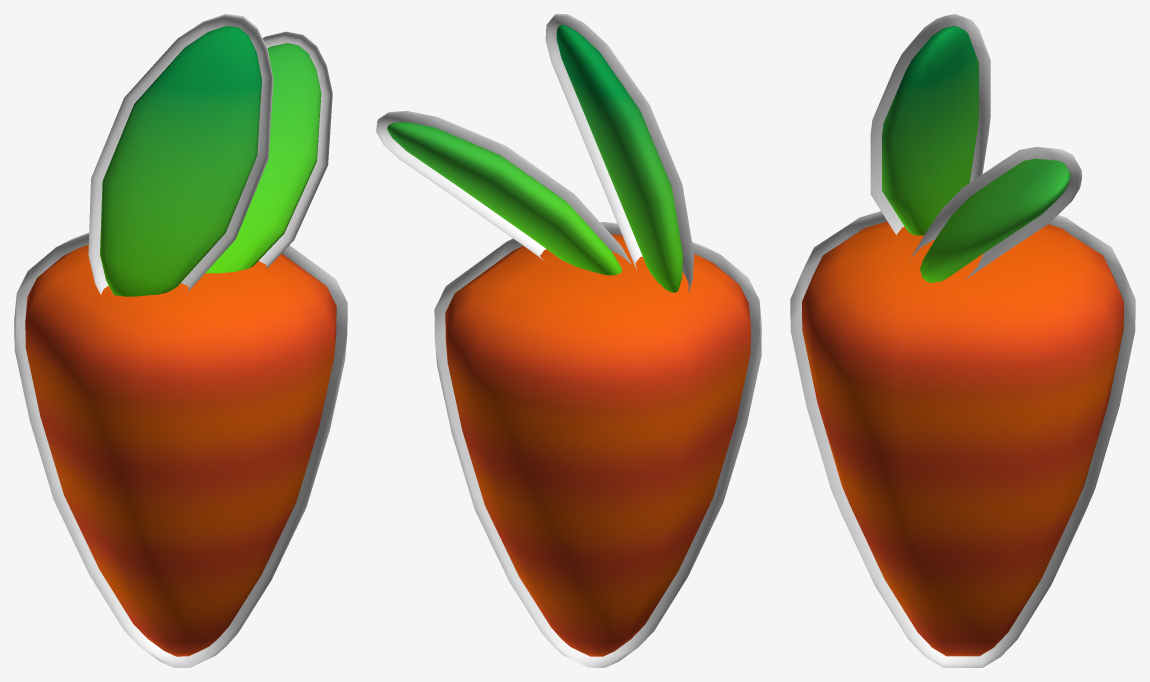
File: carrot.gltf
The picture shows the model from 3 angles, left to right: view 1: azimuth 30°, elevation 25°; view 2: azimuth 150°, elevation 25°; view 3: azimuth 270°, elevation 25°; orthographic projection. The views are drawn at different scales.
Parts seen in each view (by area): view 1: Kakkarot_Cube.002; view 2: Kakkarot_Cube.002; view 3: Kakkarot_Cube.002.
Boxes of the visible parts, box(x1,y1,x2,y2) form: Kakkarot_Cube.002: box(14, 14, 347, 667); Kakkarot_Cube.002: box(376, 14, 761, 667); Kakkarot_Cube.002: box(790, 14, 1135, 667).
Bounding box in the file's own units: 0.5159 × 1 × 0.4707.
1 material, 1 textured.
